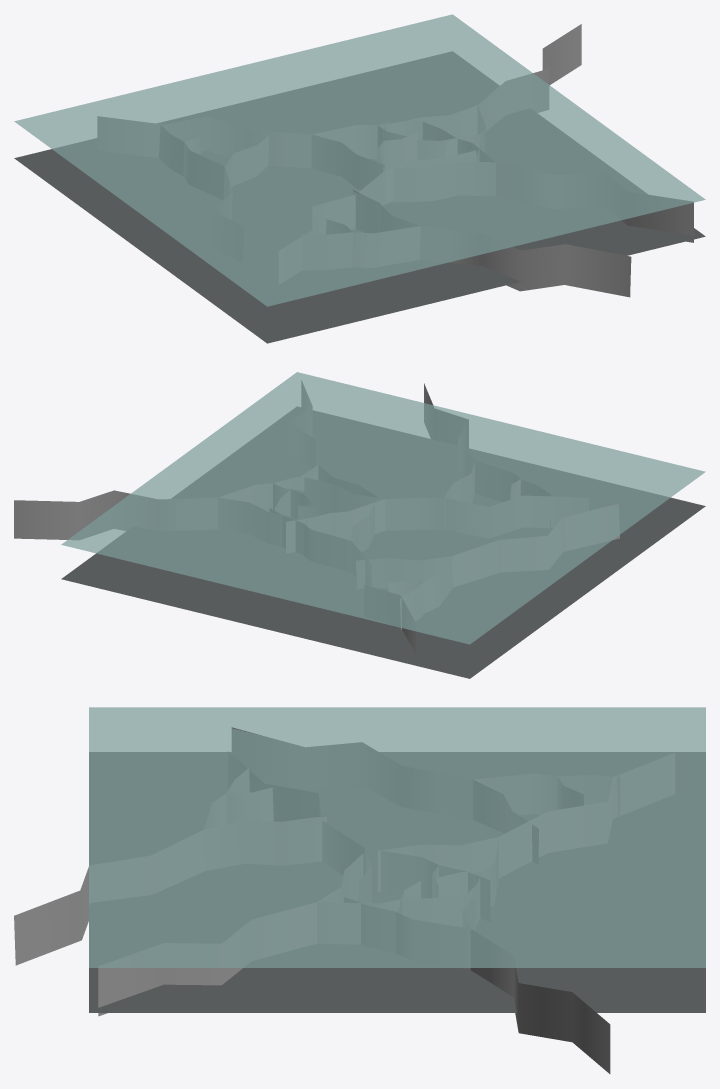
File: icelake.fbx
3 renders of one model, top to bottom at view 1: azimuth 30°, elevation 25°; view 2: azimuth 150°, elevation 25°; view 3: azimuth 270°, elevation 25°, orthographic. The views are drawn at different scales.
Parts seen in each view (by area): view 1: pPlane5; view 2: pPlane5; view 3: pPlane5.
Part boxes in pixels (box(x1,y1,x2,y2)): pPlane5: box(14, 14, 705, 343); pPlane5: box(14, 372, 705, 678); pPlane5: box(14, 707, 705, 1073).
Size of the model in its own units: 3.61 by 0.3301 by 3.37.
